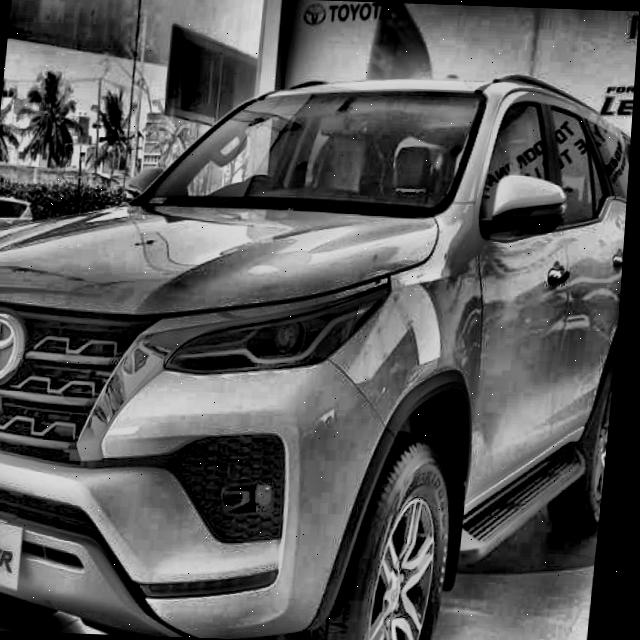light_vehicle: (0, 194, 40, 266)
